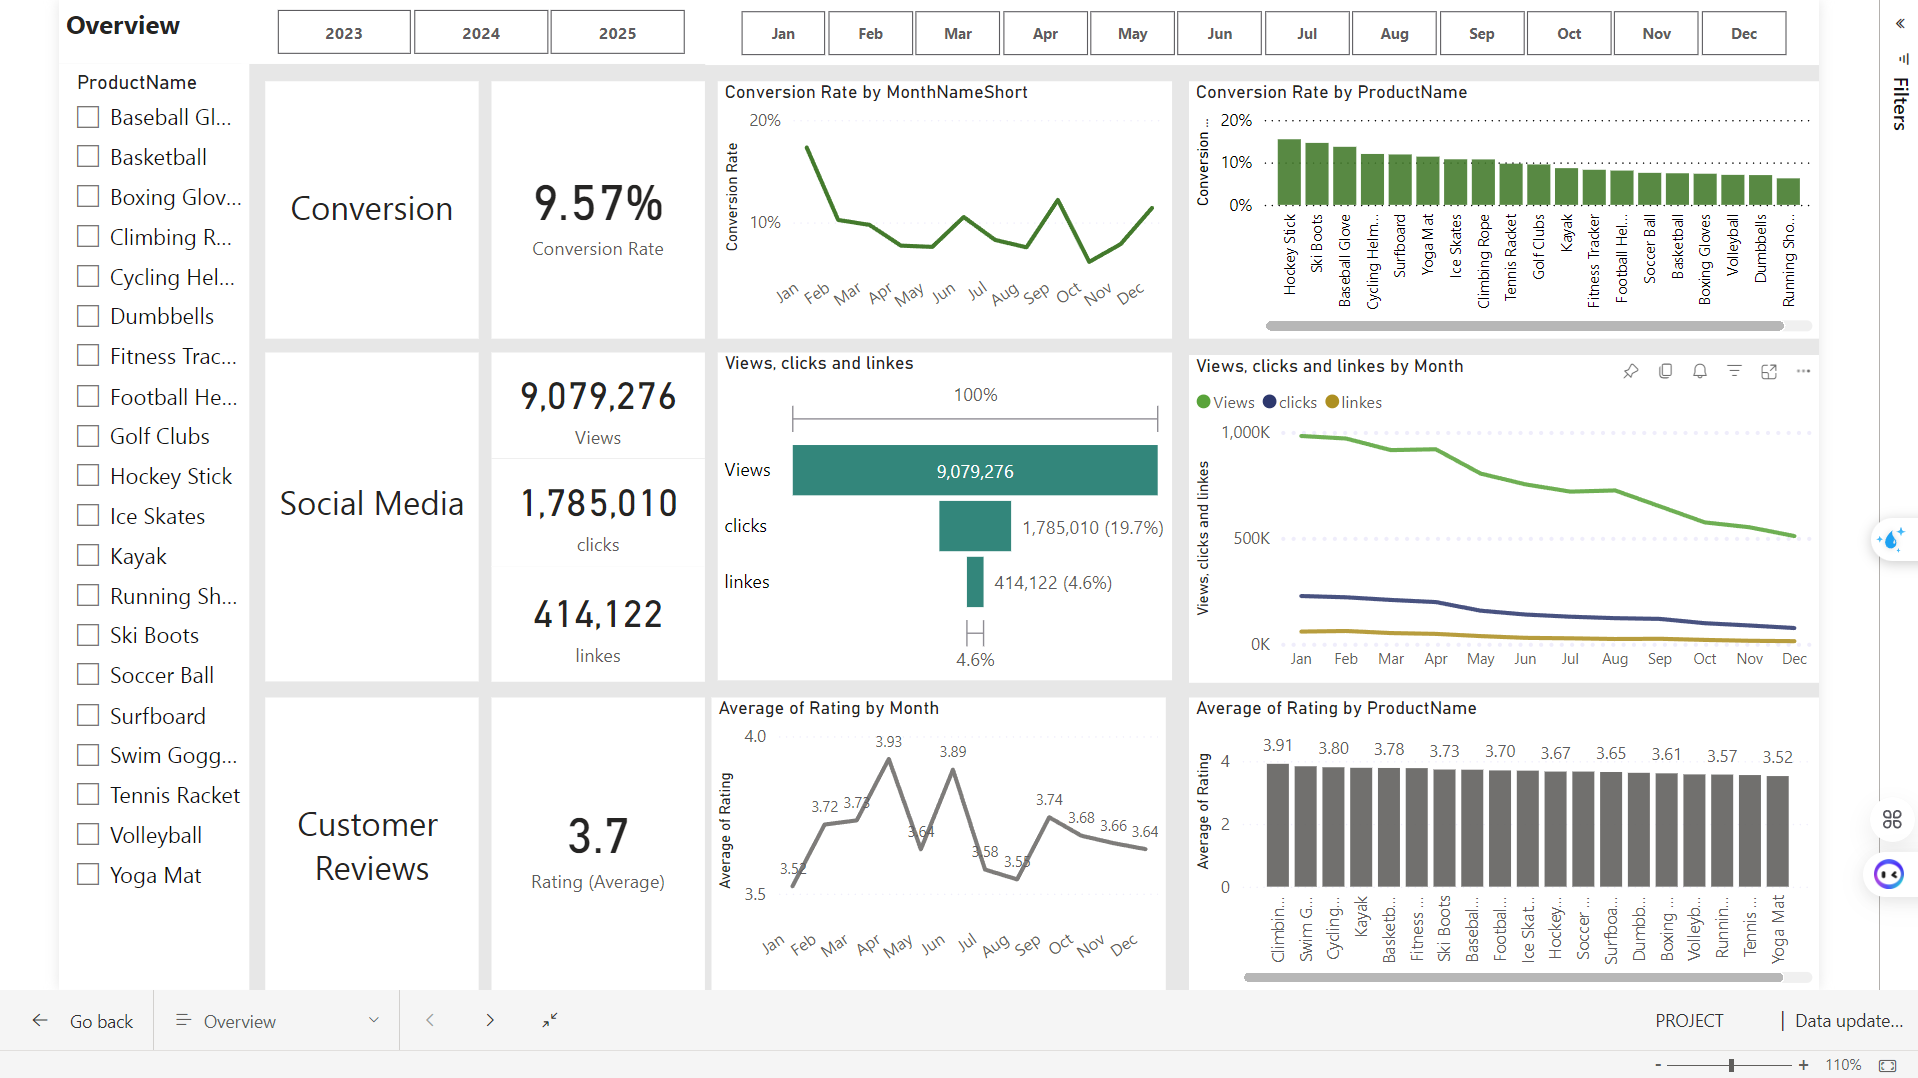

This screenshot's page, from the dashboard's own definition file:
{"tool":"powerbi","page":{"name":"Overview","canvas":[1280,720],"ordinal":0},"visuals":[{"type":"textbox","box":[0,0,1280.3,46.5],"z":0},{"type":"slicer","fields":{"Values":["dim_product.ProductName"]},"box":[0,46.5,138.1,673.3],"z":1000},{"type":"textbox","box":[150.4,58.7,155.3,187.1],"z":2000},{"type":"card","fields":{"Values":["Calculations.Conversion Rate"]},"box":[314.3,58.7,155.3,187.1],"z":3000},{"type":"card","fields":{"Values":["Calculations.Views"]},"box":[314.8,256.3,155.4,77],"z":4000},{"type":"card","fields":{"Values":["Calculations.linkes"]},"box":[314.8,411.7,155.4,83.7],"z":5000},{"type":"card","fields":{"Values":["Calculations.clicks"]},"box":[314.8,333.3,155.4,78.4],"z":6000},{"type":"textbox","box":[150.1,256.3,155.4,239.1],"z":7000},{"type":"textbox","box":[150.1,507.3,155.4,212.5],"z":8000},{"type":"card","fields":{"Values":["Calculations.Rating (Average)"]},"box":[314.8,507.3,155.4,212.5],"z":9000},{"type":"slicer","fields":{"Values":["Calender.Year"]},"box":[132.8,0,346.6,46.5],"z":10000},{"type":"slicer","fields":{"Values":["Calender.MonthNameShort"]},"box":[470.1,1.3,810.1,46.5],"z":11000},{"type":"lineChart","fields":{"Y":["Calculations.Conversion Rate"],"Category":["Calender.MonthNameShort"]},"box":[479.4,58.7,330.2,187.1],"z":12000},{"type":"clusteredColumnChart","fields":{"Y":["Calculations.Conversion Rate"],"Category":["dim_product.ProductName"]},"box":[821.7,58.7,458.6,187.1],"z":13000},{"type":"funnel","fields":{"Y":["Calculations.Views","Calculations.clicks","Calculations.linkes"]},"box":[479.4,256.8,330.2,238.5],"z":14000},{"type":"lineChart","title":"Views, clicks and linkes by Month","fields":{"Y":["Calculations.Views","Calculations.clicks","Calculations.linkes"],"Category":["Calender.MonthNameShort"]},"box":[821.7,258,458.6,238.5],"z":15000},{"type":"clusteredColumnChart","fields":{"Y":["Avg(fact_customer_reviews_enrich.Rating)"],"Category":["dim_product.ProductName"]},"box":[821.7,507.5,458.6,212.8],"z":16000},{"type":"lineChart","title":"Average of Rating by Month","fields":{"Category":["Calender.MonthNameShort"],"Y":["Avg(fact_customer_reviews_enrich.Rating)"]},"box":[474.5,507.5,330.2,212.8],"z":17000}]}

Visuals, with their boxes on the page's 1280x720 design canvas (x1, y1, x2, y2). These are canvas units, not pixel positions in the 1918x1078 screenshot, which may show the page scaled, cropped or inside an application window:
textbox: [left=0, top=0, right=1280, bottom=46]
slicer - dim_product.ProductName: [left=0, top=46, right=138, bottom=720]
textbox: [left=150, top=59, right=306, bottom=246]
card - Calculations.Conversion Rate: [left=314, top=59, right=470, bottom=246]
card - Calculations.Views: [left=315, top=256, right=470, bottom=333]
card - Calculations.linkes: [left=315, top=412, right=470, bottom=495]
card - Calculations.clicks: [left=315, top=333, right=470, bottom=412]
textbox: [left=150, top=256, right=306, bottom=495]
textbox: [left=150, top=507, right=306, bottom=720]
card - Calculations.Rating (Average): [left=315, top=507, right=470, bottom=720]
slicer - Calender.Year: [left=133, top=0, right=479, bottom=46]
slicer - Calender.MonthNameShort: [left=470, top=1, right=1280, bottom=48]
lineChart - Calculations.Conversion Rate x Calender.MonthNameShort: [left=479, top=59, right=810, bottom=246]
clusteredColumnChart - Calculations.Conversion Rate x dim_product.ProductName: [left=822, top=59, right=1280, bottom=246]
funnel - Calculations.Views x Calculations.clicks: [left=479, top=257, right=810, bottom=495]
"Views, clicks and linkes by Month" lineChart: [left=822, top=258, right=1280, bottom=496]
clusteredColumnChart - Avg(fact_customer_reviews_enrich.Rating) x dim_product.ProductName: [left=822, top=508, right=1280, bottom=720]
"Average of Rating by Month" lineChart: [left=474, top=508, right=805, bottom=720]
